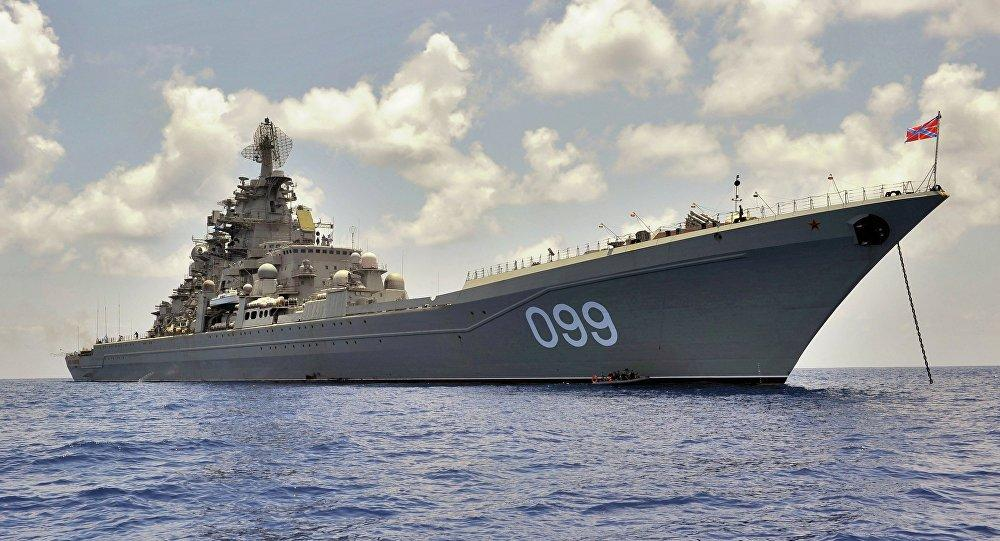MIL_Ship: (63, 115, 963, 388)
